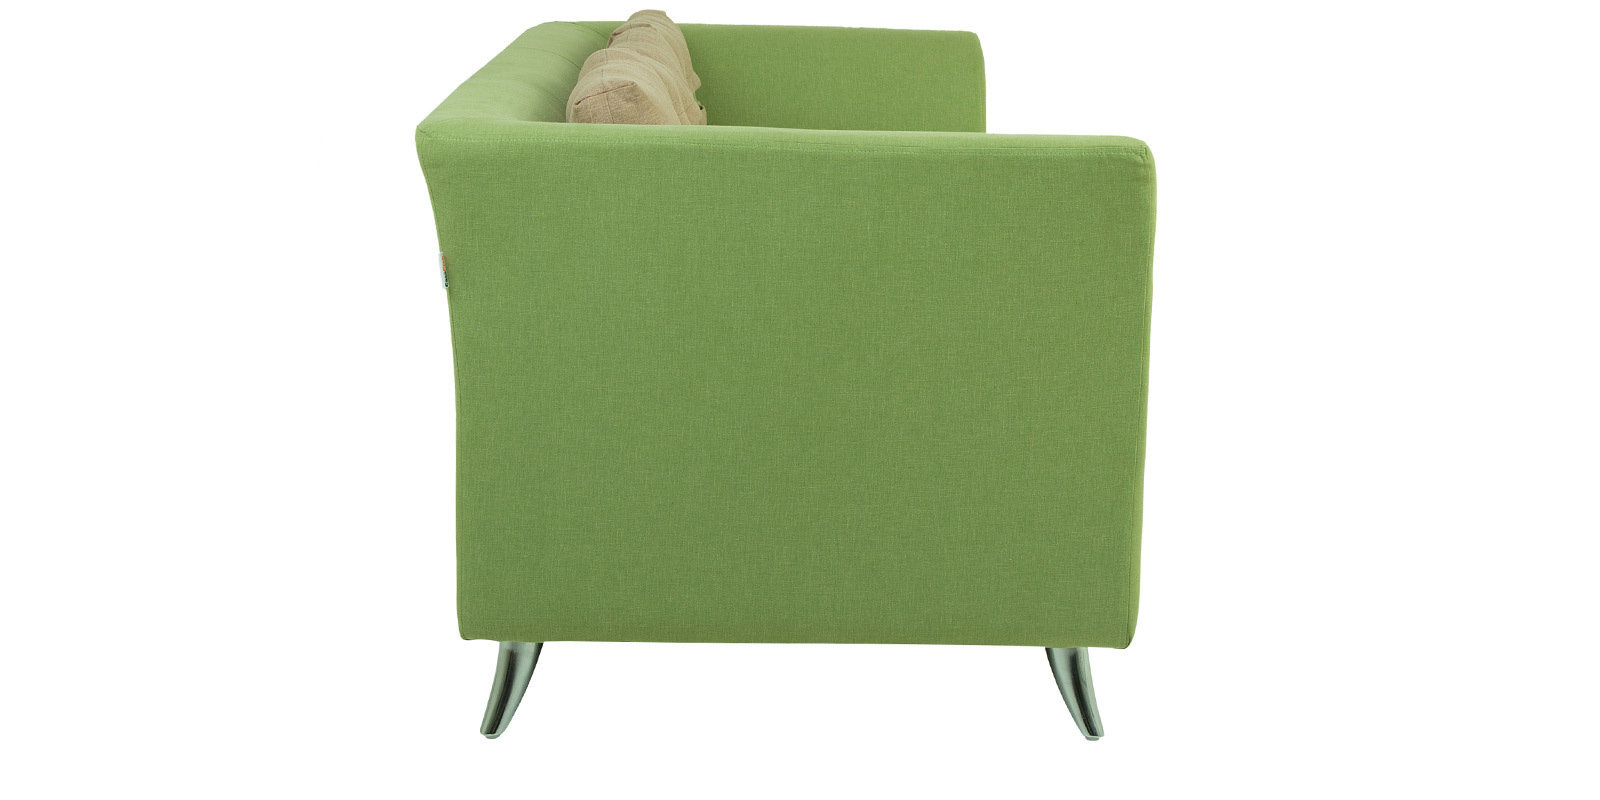Iowa Three Seater Sofa in Pear Green Colour by Furnitech: (400, 1, 1222, 769)
